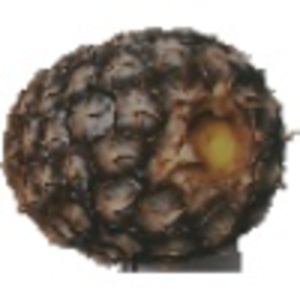abacaxi: (1, 23, 288, 268)
